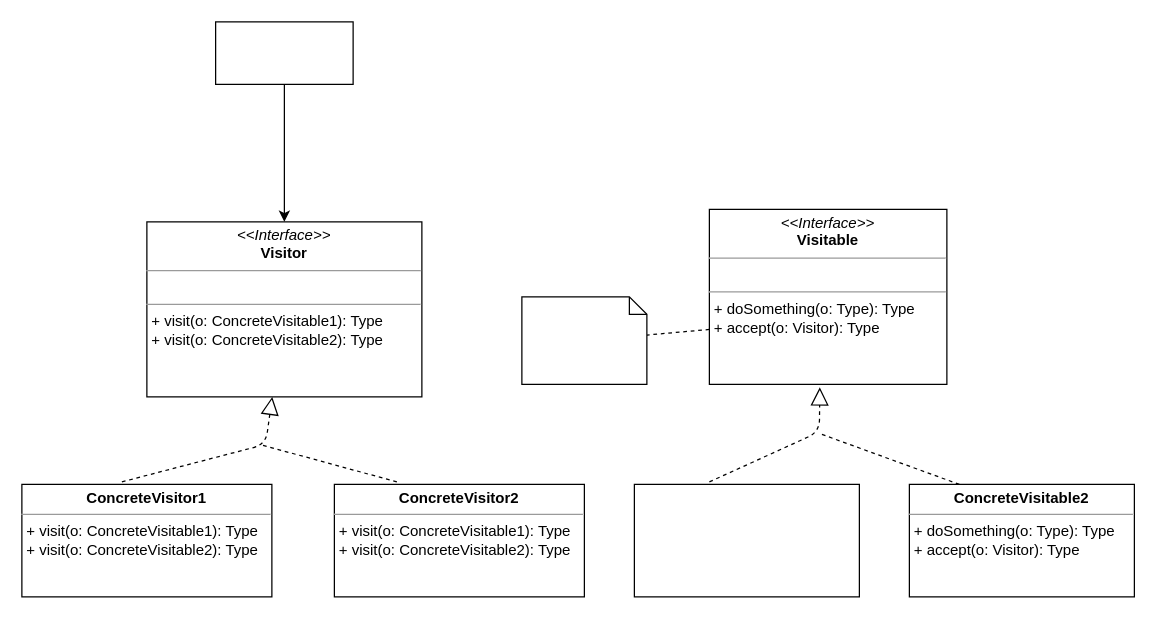
Image size: 1156x619. Some labels were removed from this diagram. Here are the shapes that lost their labels. From the top down, the box of each, then its label:
(214, 21, 353, 84): Client
(521, 296, 647, 384): v.visit(this)
(633, 483, 859, 597): ConcreteVisitable1 + doSomething(o: Type): Type + accept(o: Visitor): Type
